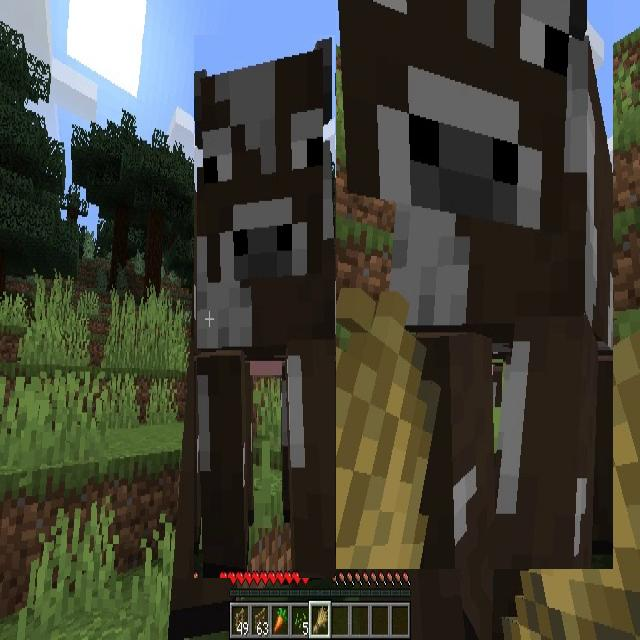cow: (336, 0, 613, 569), (194, 35, 335, 578)
